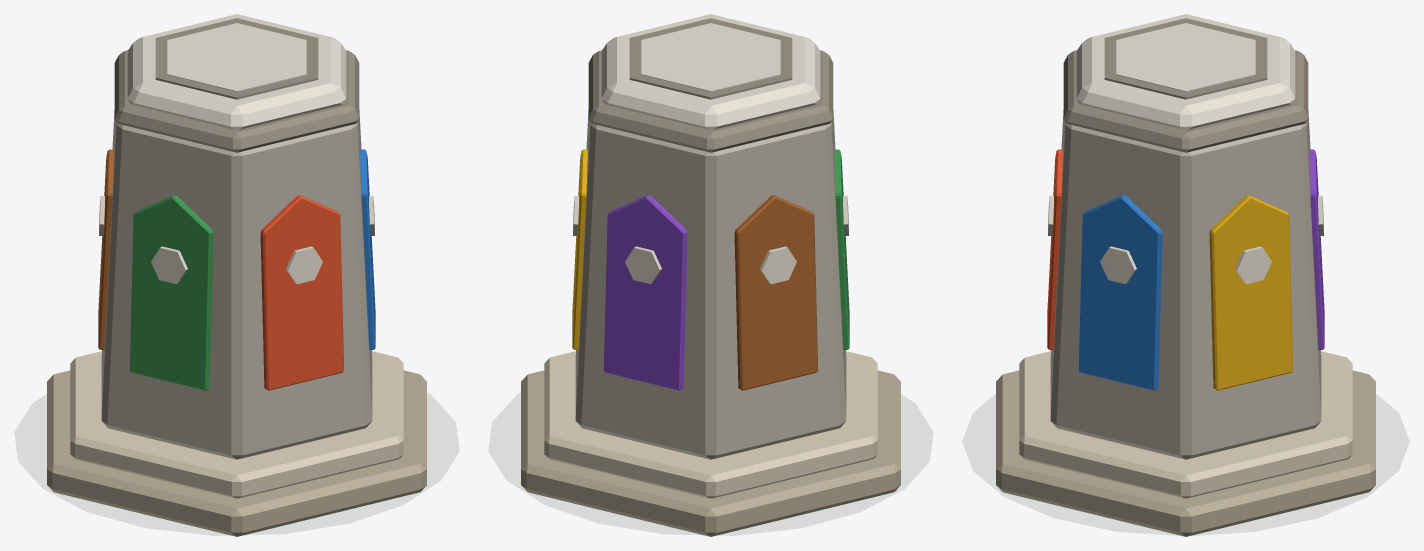
File: seal_stone_carved.glb
3 views of the same model, side by side, from view 1: azimuth 30°, elevation 25°; view 2: azimuth 150°, elevation 25°; view 3: azimuth 270°, elevation 25° (orthographic).
Visible parts, largest first — view 1: seal_stone_carved; view 2: seal_stone_carved; view 3: seal_stone_carved.
Boxes of the visible parts, <box> form: seal_stone_carved: <box>47,14,426,536</box>; seal_stone_carved: <box>521,14,900,536</box>; seal_stone_carved: <box>996,14,1375,536</box>.
Bounding box in the file's own units: 2 × 1.92 × 2.
